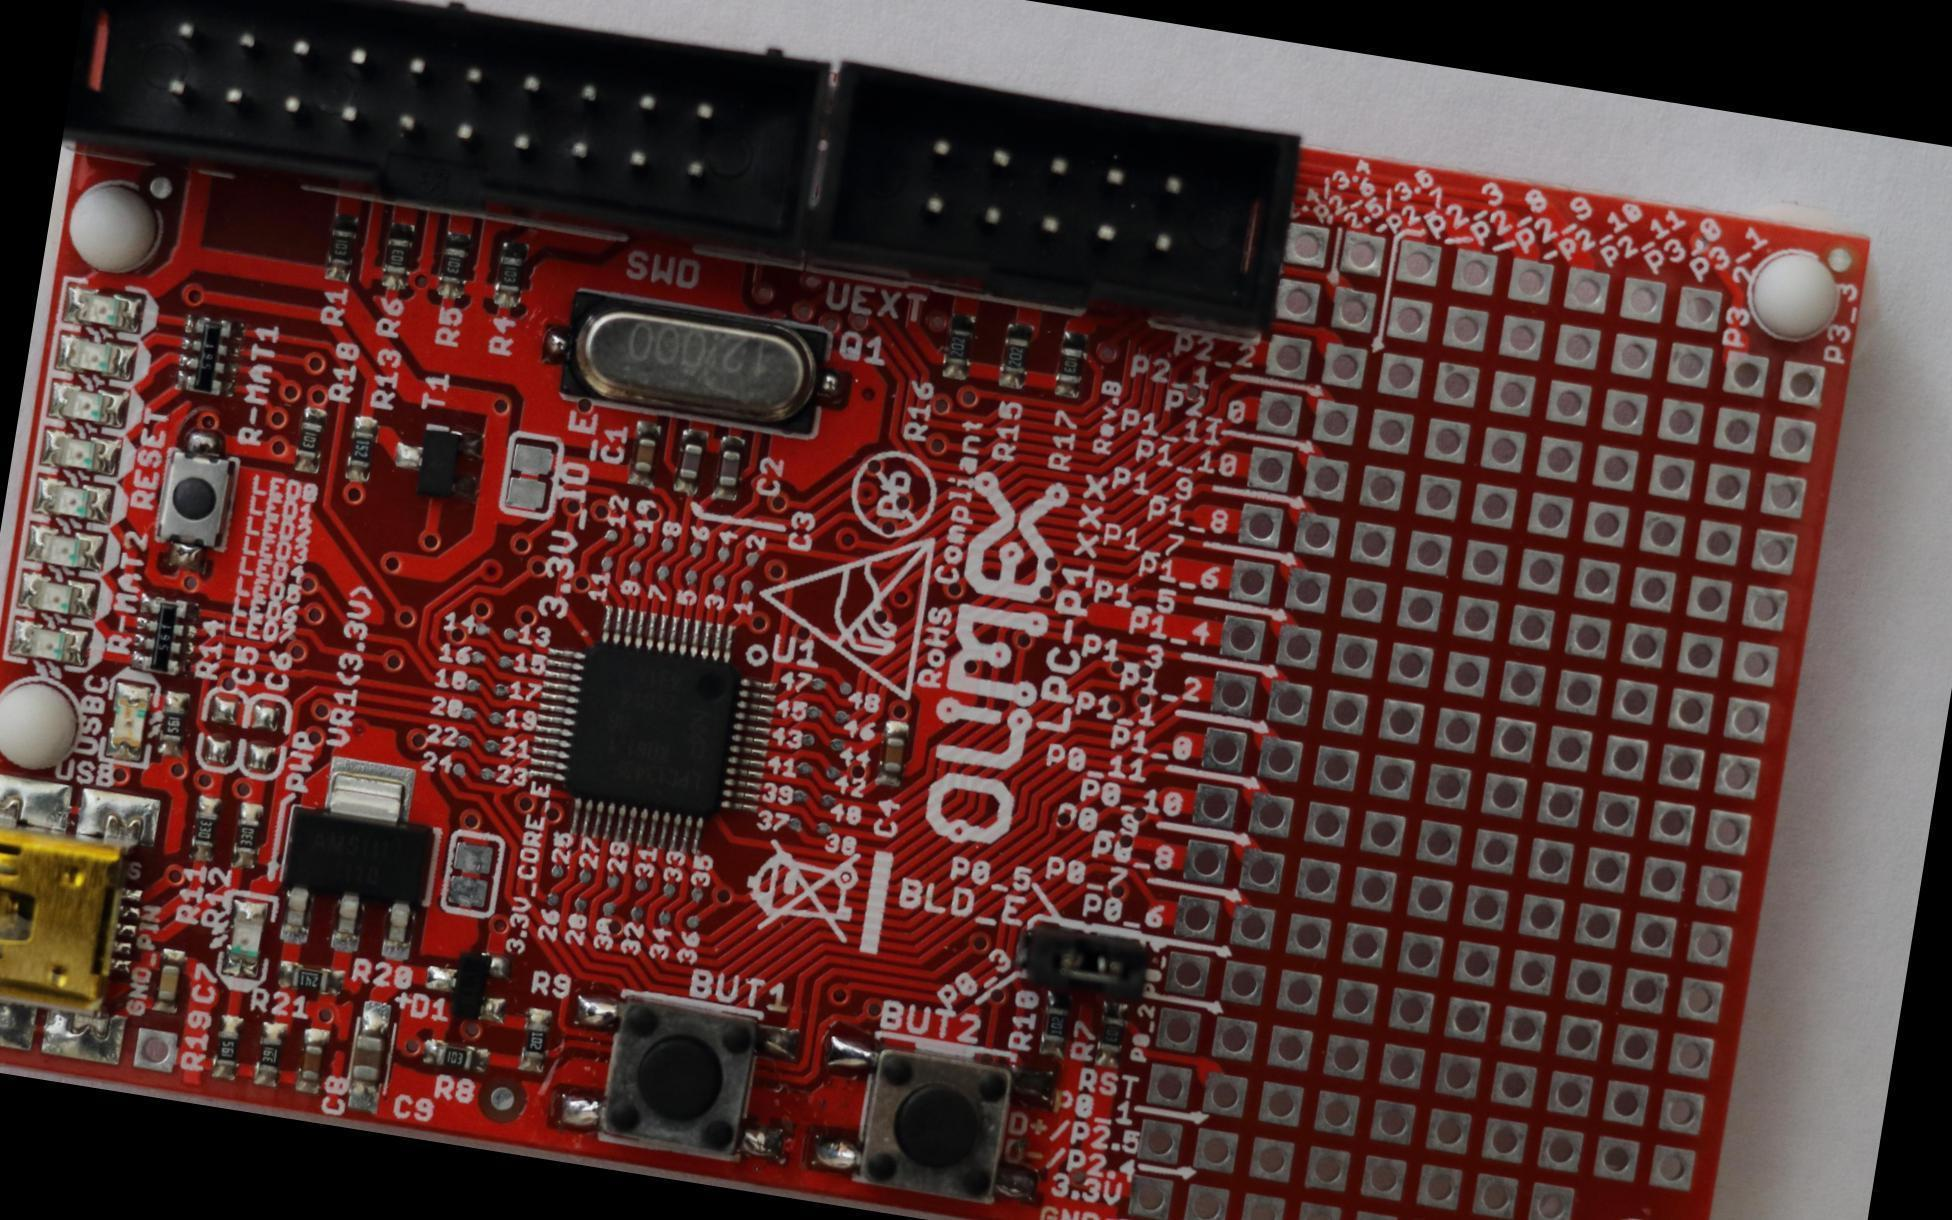Button: (552, 983, 800, 1164), (809, 1031, 1059, 1210), (144, 422, 245, 577)
Capacitor: (629, 420, 662, 487), (876, 718, 908, 785), (674, 429, 706, 495), (296, 1026, 327, 1093), (714, 434, 744, 499), (155, 949, 182, 1011)
Connector: (1126, 218, 1836, 1219), (61, 0, 834, 266), (808, 59, 1302, 337), (0, 739, 155, 1034)
Diode: (420, 943, 512, 1021)
Electrolytic Capacitor: (344, 1000, 397, 1117)
IC: (519, 598, 787, 862), (270, 750, 446, 962)
Led: (35, 421, 128, 481), (14, 564, 106, 624), (6, 611, 97, 671), (19, 517, 111, 576), (28, 470, 119, 529), (44, 375, 136, 433), (218, 892, 274, 985), (50, 328, 140, 385), (58, 279, 147, 336), (100, 681, 158, 765)
Pads: (436, 826, 509, 920), (494, 428, 566, 522), (191, 681, 250, 775), (236, 691, 294, 784)
Resistor: (176, 315, 247, 396), (132, 592, 200, 676), (156, 690, 193, 759), (381, 222, 416, 291), (325, 212, 358, 281), (346, 414, 379, 482), (437, 231, 470, 299), (518, 1006, 551, 1073), (998, 324, 1032, 389), (421, 1039, 489, 1071), (294, 407, 327, 472), (1095, 1002, 1128, 1067), (1054, 332, 1087, 397), (1040, 992, 1074, 1055), (212, 1014, 244, 1079), (495, 243, 527, 308), (942, 314, 974, 379), (189, 794, 220, 860), (254, 1020, 284, 1085), (233, 803, 262, 867), (290, 967, 329, 991)
Transistor: (390, 418, 487, 502)
